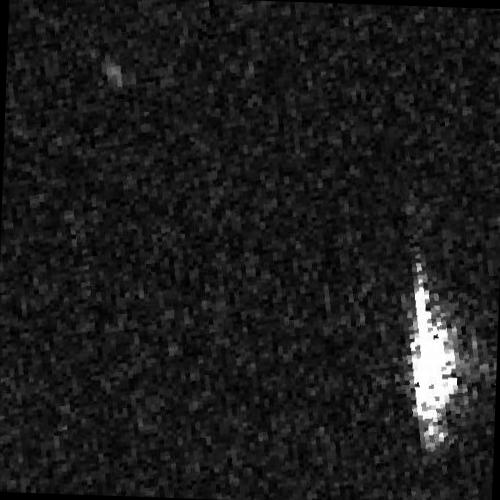ship: (410, 270, 457, 440)
